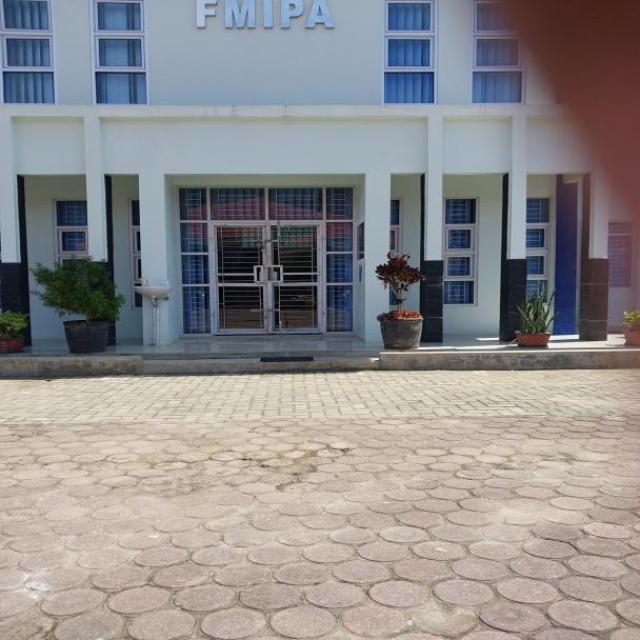plant ahead at: (30, 248, 124, 352), (371, 252, 432, 348), (511, 285, 562, 348)
wash basin ahead at: (132, 272, 174, 308)
